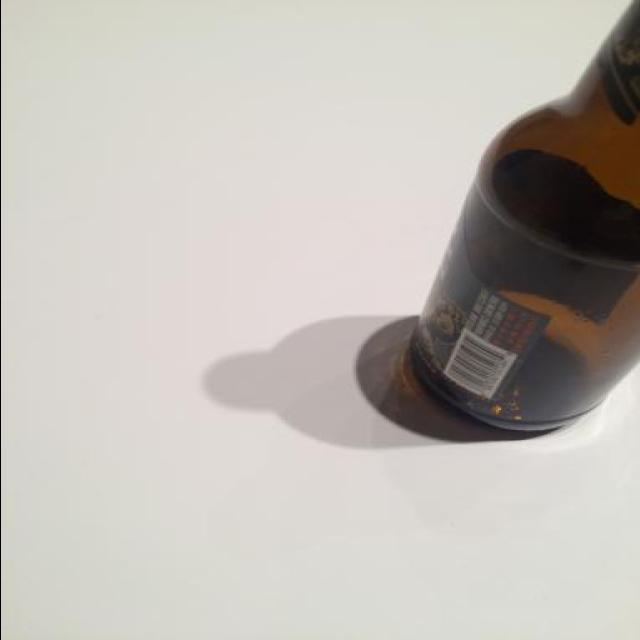glass: (410, 0, 640, 432)
